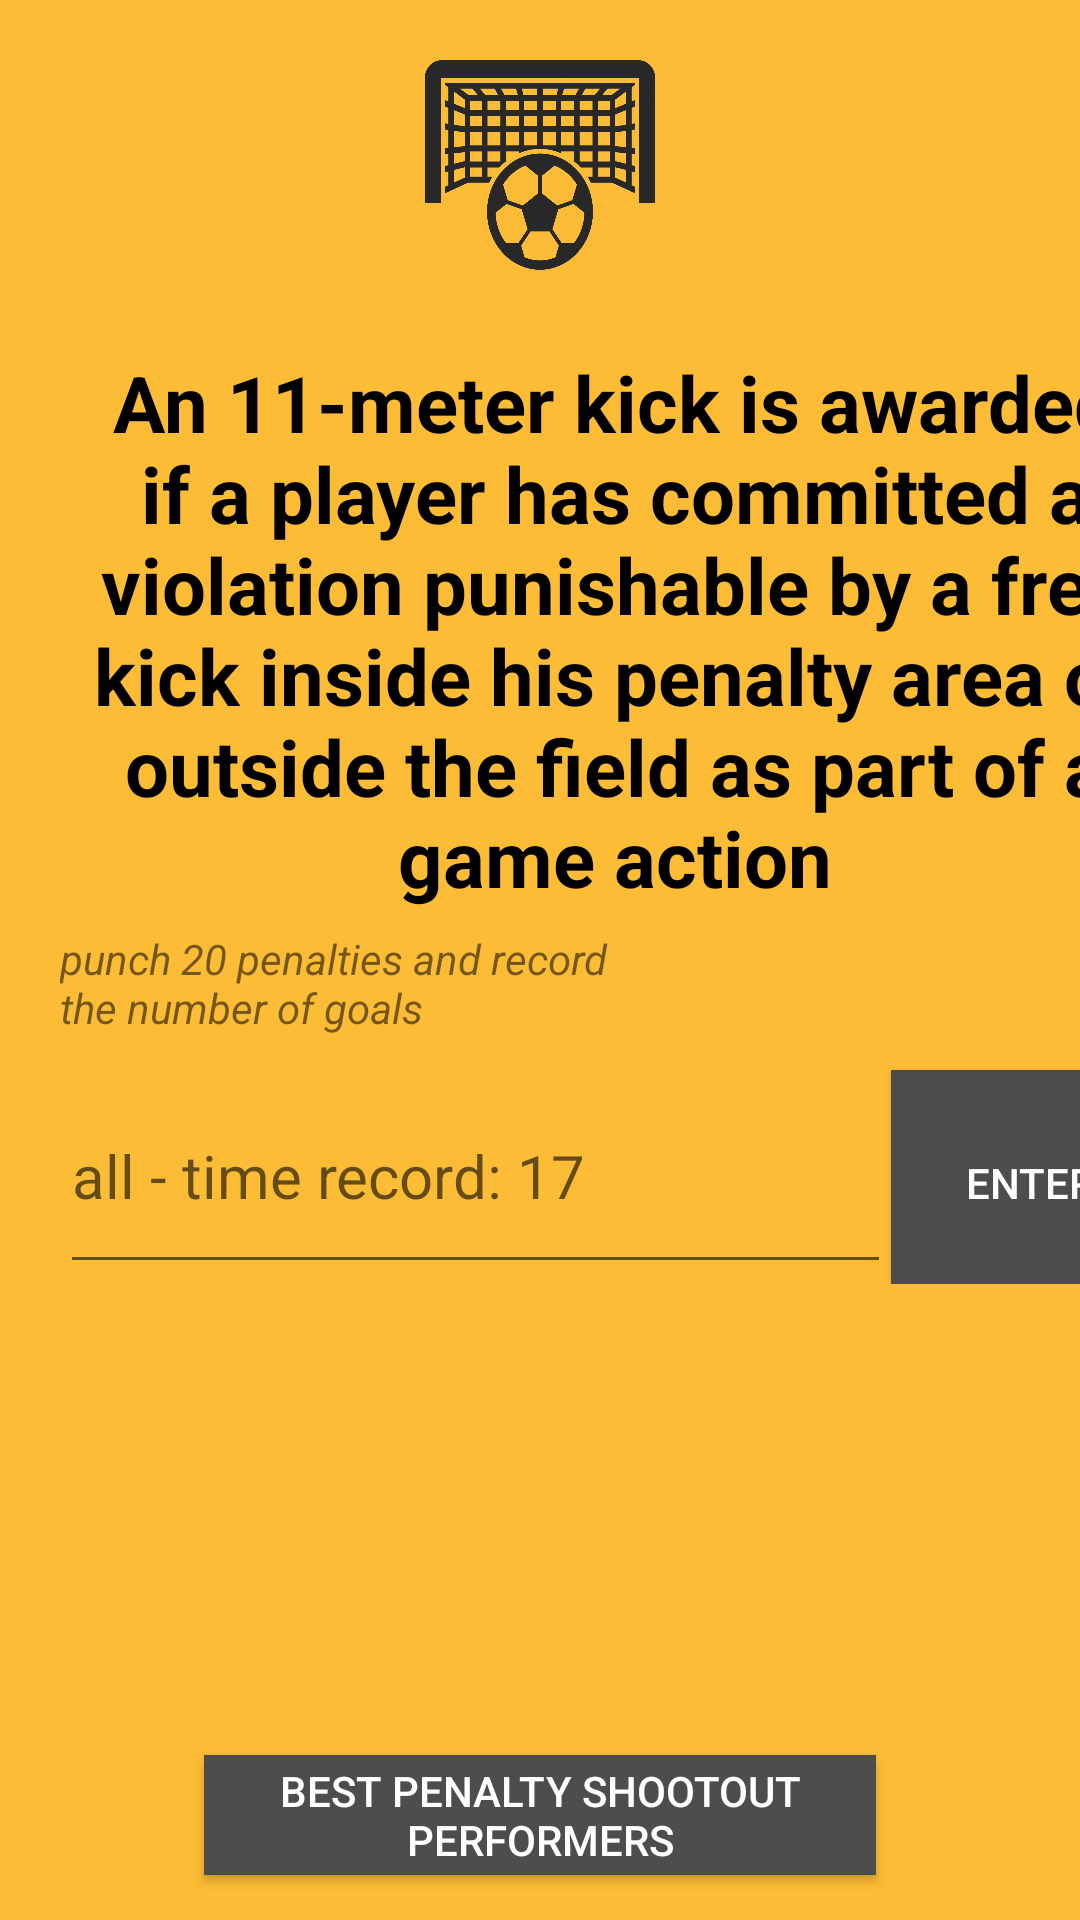

Icon bounding boxes for this 1080w x 1920h phone screenshot, format (x1, y1, x2, y2):
emblemapenalty: (425, 60, 655, 270)
